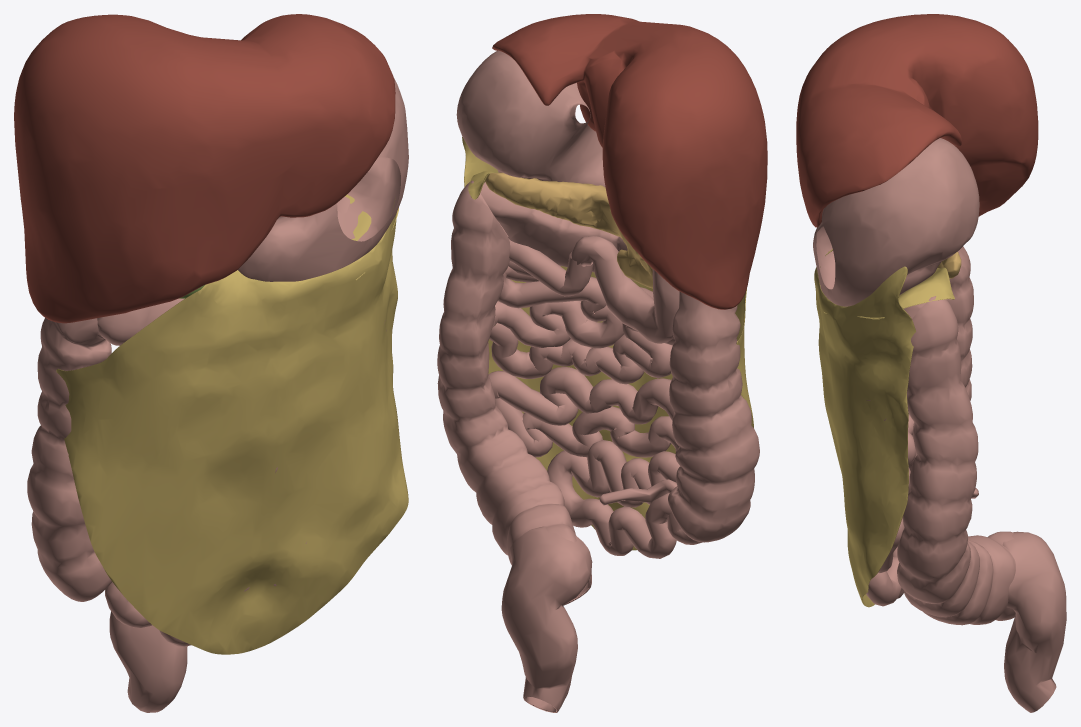
The model's file is anatomy-organs.glb.
The picture shows the model from 3 angles, left to right: view 1: azimuth 30°, elevation 25°; view 2: azimuth 150°, elevation 25°; view 3: azimuth 270°, elevation 25°; orthographic projection. The views are drawn at different scales.
Visible parts, largest first — view 1: Greater_omentum, Liver, Ascending_colon, Stomach, Sigmoid_colon, Transverse_colon, Jejunum; view 2: Liver, Jejunum, Descending_colon, Ascending_colon, Stomach, Sigmoid_colon, Pancreas, Duodenum, Transverse_colon, Greater_omentum, Vermiform_appendix; view 3: Liver, Descending_colon, Greater_omentum, Stomach, Sigmoid_colon, Ascending_colon, Jejunum, Mesocolon.
Part boxes in pixels (box(x1,y1,x2,y2)): Greater_omentum: box(56, 196, 408, 654); Liver: box(14, 14, 395, 323); Ascending_colon: box(27, 317, 111, 601); Stomach: box(238, 78, 408, 281); Sigmoid_colon: box(109, 611, 187, 712); Transverse_colon: box(97, 196, 349, 345); Jejunum: box(105, 320, 386, 646); Liver: box(492, 14, 767, 309); Jejunum: box(488, 239, 702, 558); Descending_colon: box(437, 181, 591, 605); Ascending_colon: box(668, 291, 759, 542); Stomach: box(456, 50, 605, 187); Sigmoid_colon: box(501, 526, 592, 712); Pancreas: box(485, 172, 652, 288); Duodenum: box(571, 236, 679, 343); Transverse_colon: box(471, 180, 634, 280); Greater_omentum: box(462, 137, 753, 550); Vermiform_appendix: box(599, 479, 677, 505); Liver: box(796, 14, 1038, 227); Descending_colon: box(897, 296, 1015, 625); Greater_omentum: box(814, 249, 915, 607); Stomach: box(813, 138, 979, 306); Sigmoid_colon: box(1002, 531, 1066, 712); Ascending_colon: box(908, 246, 973, 470); Jejunum: box(866, 400, 916, 606); Mesocolon: box(823, 267, 954, 319).
Size of the model in its own units: 0.2289 by 0.4538 by 0.1709.
